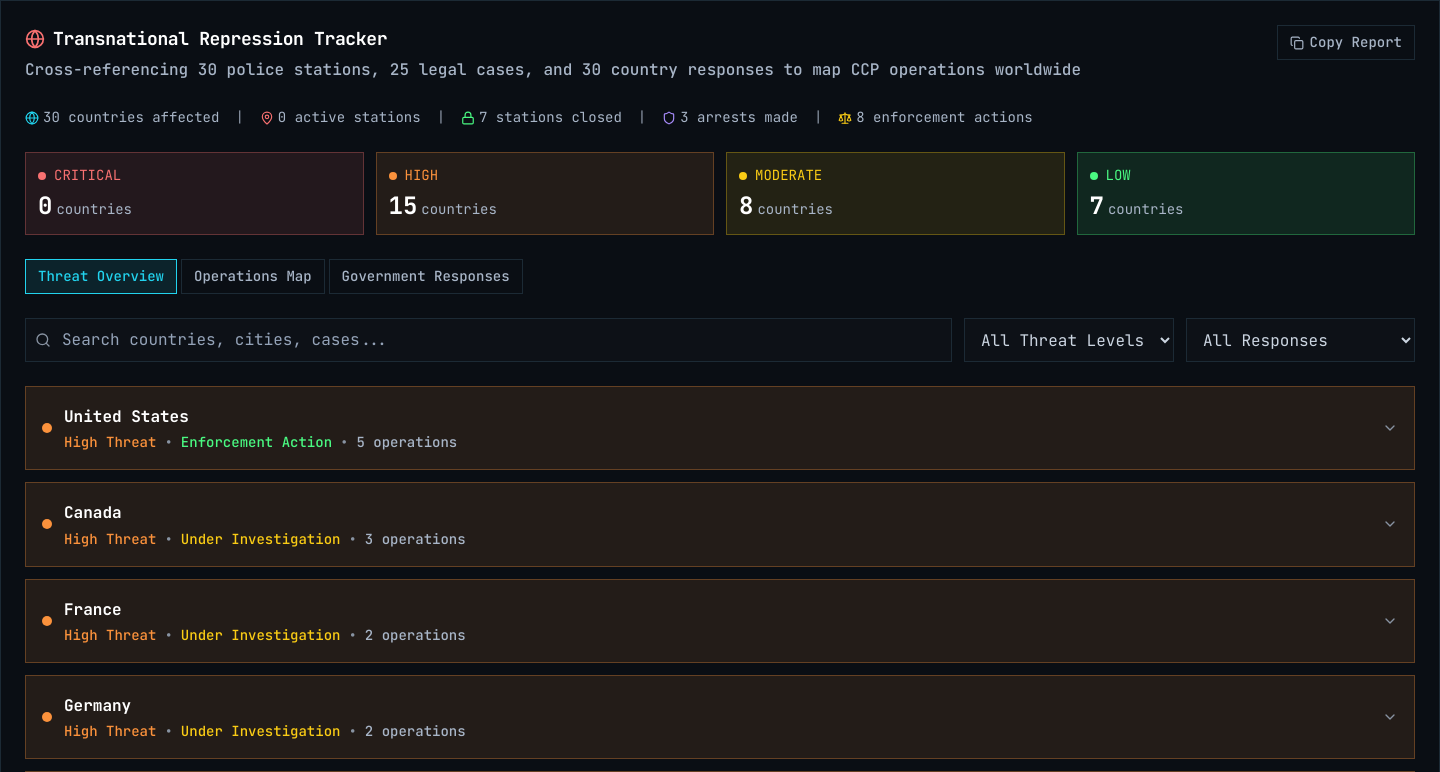
Test case: TransnationalRepressionTracker › clicking a country card expands it
This screenshot has width=1440, height=772.
Step 1. Click the button that starts with "United States" → x=126, y=417, box [26,387,1414,469]
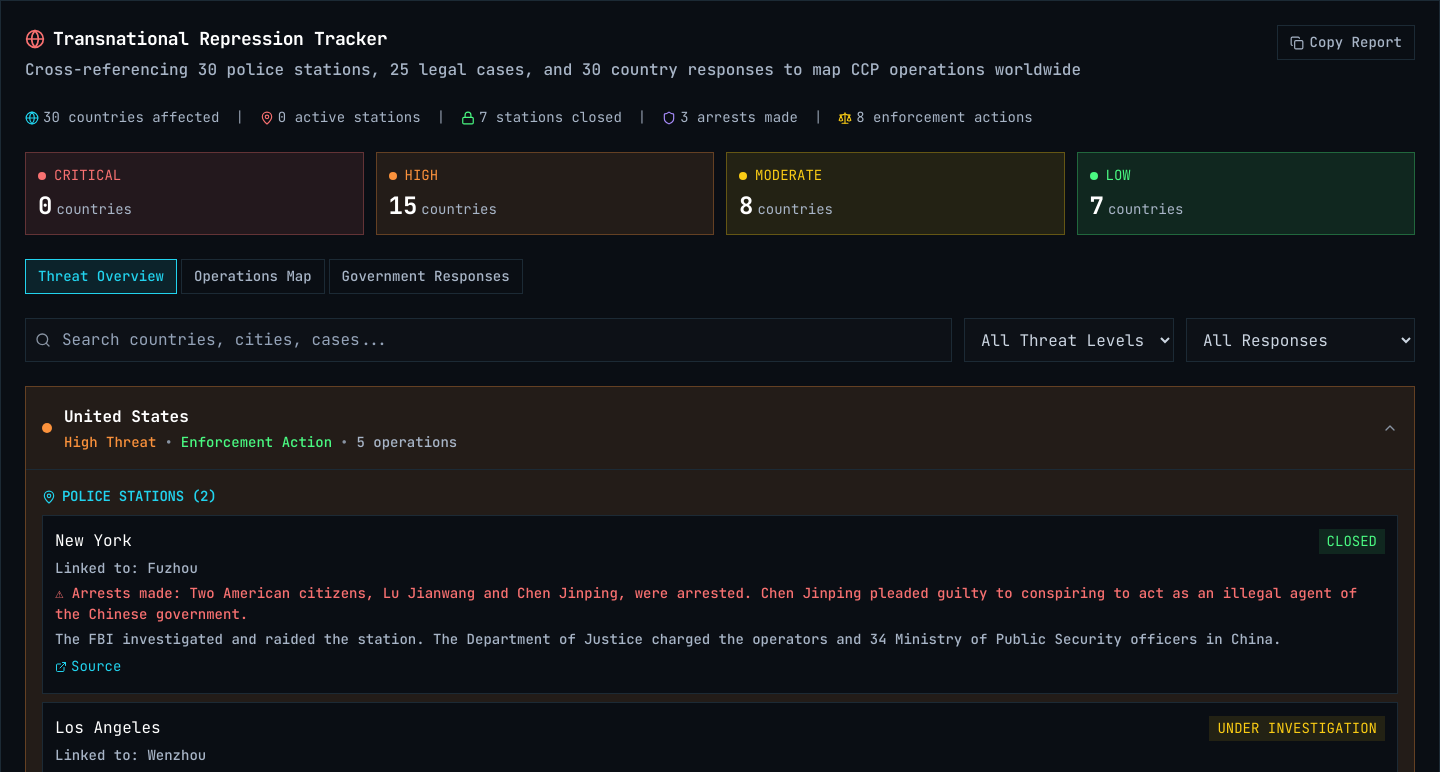
expect the button that starts with "United States" is expanded: met, box [26,387,1414,469]
